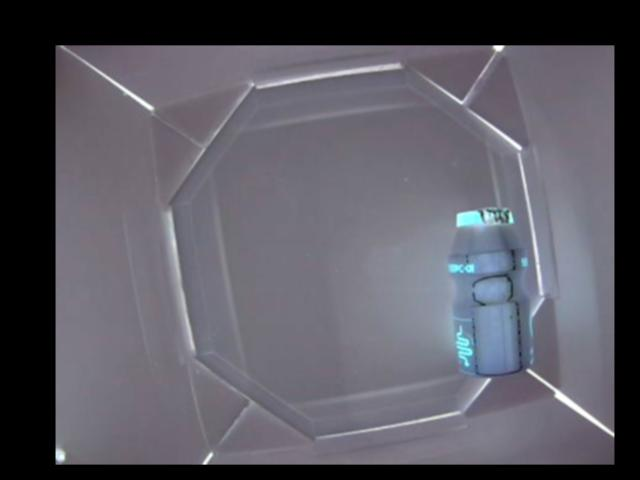Bottle: (446, 208, 534, 375)
